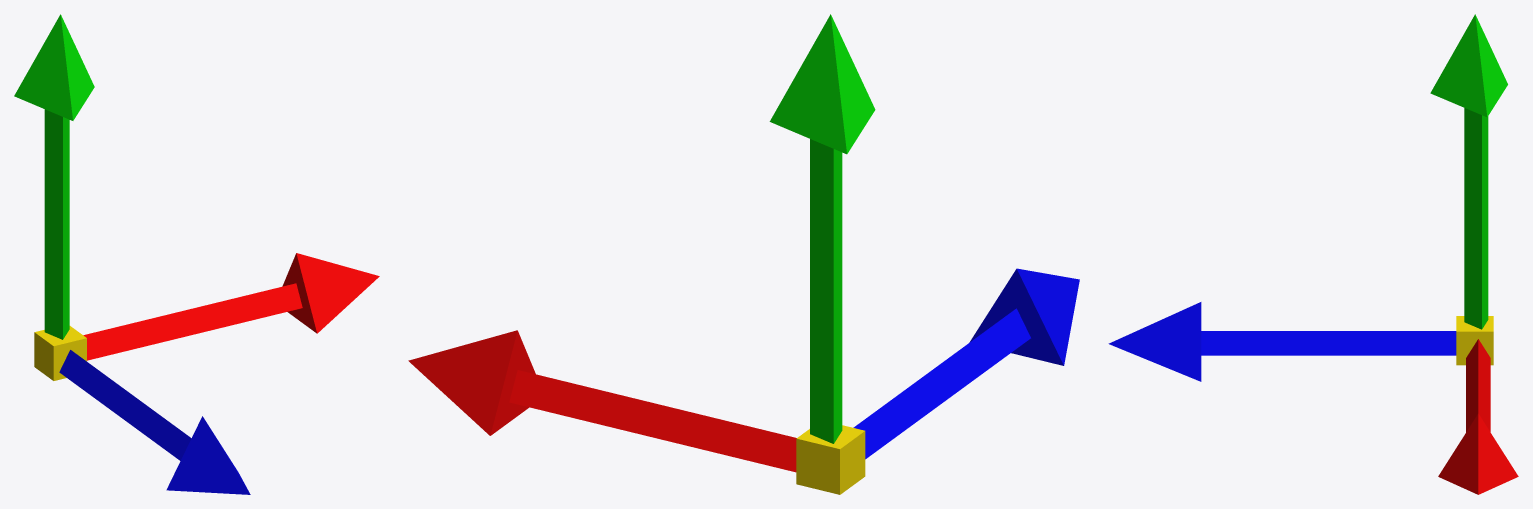
File: coords2.obj
3 renders of one model, left to right at view 1: azimuth 30°, elevation 25°; view 2: azimuth 150°, elevation 25°; view 3: azimuth 270°, elevation 25°, orthographic. The views are drawn at different scales.
Visible parts, largest first — view 1: Cylinder.002_Cylinder.005, Cylinder.001_Cylinder.004, Cone.001_Cone.002, Cone.002_Cone, Cylinder_Cylinder.003, Cone_Cone.001, Cube_Cube.001; view 2: Cylinder.002_Cylinder.005, Cylinder.001_Cylinder.004, Cone.001_Cone.002, Cone.002_Cone, Cylinder_Cylinder.003, Cone_Cone.001, Cube_Cube.001; view 3: Cylinder_Cylinder.003, Cylinder.001_Cylinder.004, Cone.001_Cone.002, Cone_Cone.001, Cone.002_Cone, Cylinder.002_Cylinder.005, Cube_Cube.001.
Boxes of the visible parts, box(x1,y1,x2,y2) form: Cylinder.002_Cylinder.005: box(83, 283, 302, 360); Cylinder.001_Cylinder.004: box(44, 109, 69, 339); Cone.001_Cone.002: box(14, 14, 94, 120); Cone.002_Cone: box(282, 253, 379, 333); Cylinder_Cylinder.003: box(59, 350, 191, 460); Cone_Cone.001: box(166, 416, 250, 494); Cube_Cube.001: box(34, 326, 86, 380); Cylinder.002_Cylinder.005: box(509, 370, 796, 472); Cylinder.001_Cylinder.004: box(810, 139, 842, 443); Cone.001_Cone.002: box(769, 14, 875, 154); Cone.002_Cone: box(408, 330, 535, 435); Cylinder_Cylinder.003: box(853, 308, 1030, 459); Cone_Cone.001: box(969, 268, 1079, 365); Cube_Cube.001: box(796, 425, 865, 494); Cylinder_Cylinder.003: box(1201, 331, 1456, 355); Cylinder.001_Cylinder.004: box(1464, 108, 1488, 329); Cone.001_Cone.002: box(1430, 14, 1507, 117); Cone_Cone.001: box(1108, 302, 1201, 381); Cone.002_Cone: box(1438, 413, 1518, 494); Cylinder.002_Cylinder.005: box(1466, 339, 1490, 432); Cube_Cube.001: box(1456, 316, 1493, 365).
Bounding box in the file's own units: 0.696 × 0.6772 × 0.7178.
Materials: 4 (4 with a texture image).
